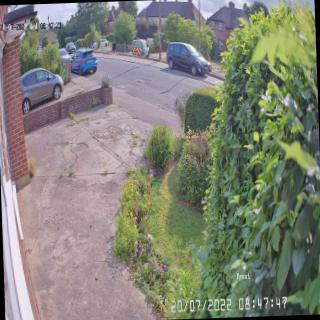car: (21, 68, 66, 114), (166, 41, 212, 79), (70, 48, 98, 76), (59, 48, 72, 70), (66, 43, 76, 55)
truck: (132, 38, 150, 58)
